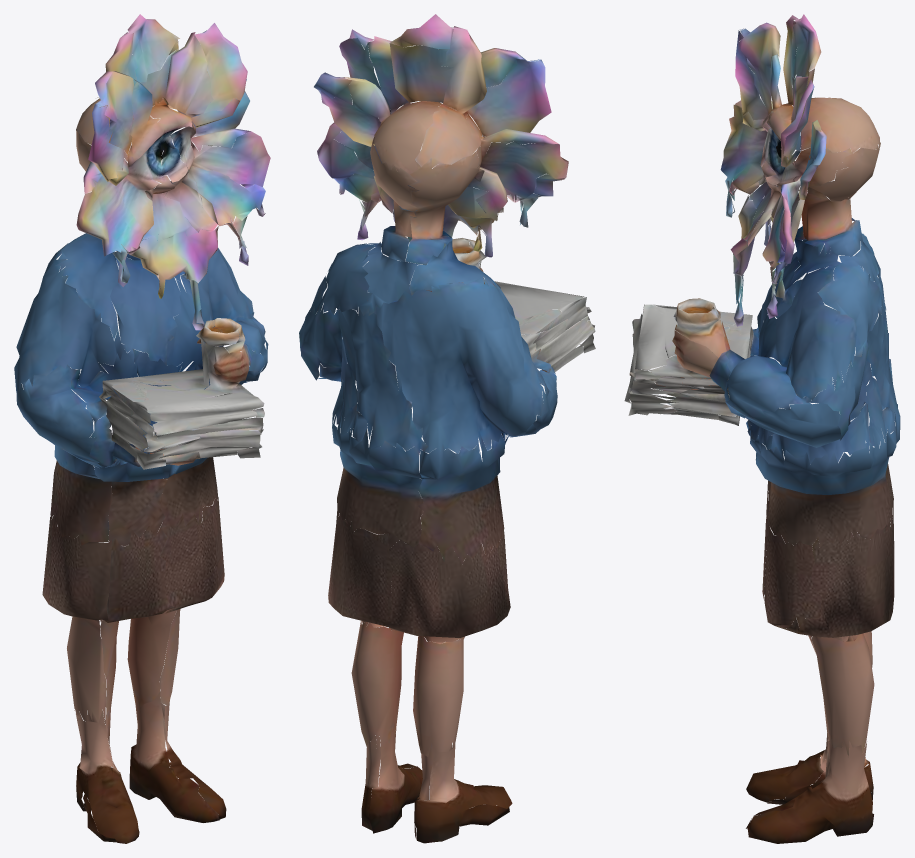
Rendered from crowd_assistant_full.glb.
3 renders of one model, left to right at view 1: azimuth 30°, elevation 25°; view 2: azimuth 150°, elevation 25°; view 3: azimuth 270°, elevation 25°, orthographic.
Visible parts, largest first — view 1: tripo_node_583bd843-d0c9-4fd2-bfd0-3545a6174963; view 2: tripo_node_583bd843-d0c9-4fd2-bfd0-3545a6174963; view 3: tripo_node_583bd843-d0c9-4fd2-bfd0-3545a6174963.
Part boxes in pixels (x1=…): tripo_node_583bd843-d0c9-4fd2-bfd0-3545a6174963: x1=14, y1=14, x2=270, y2=843; tripo_node_583bd843-d0c9-4fd2-bfd0-3545a6174963: x1=299, y1=14, x2=595, y2=843; tripo_node_583bd843-d0c9-4fd2-bfd0-3545a6174963: x1=624, y1=14, x2=900, y2=843.
Bounding box in the file's own units: 0.3136 × 1 × 0.3133.
Materials: 1 (1 with a texture image).
